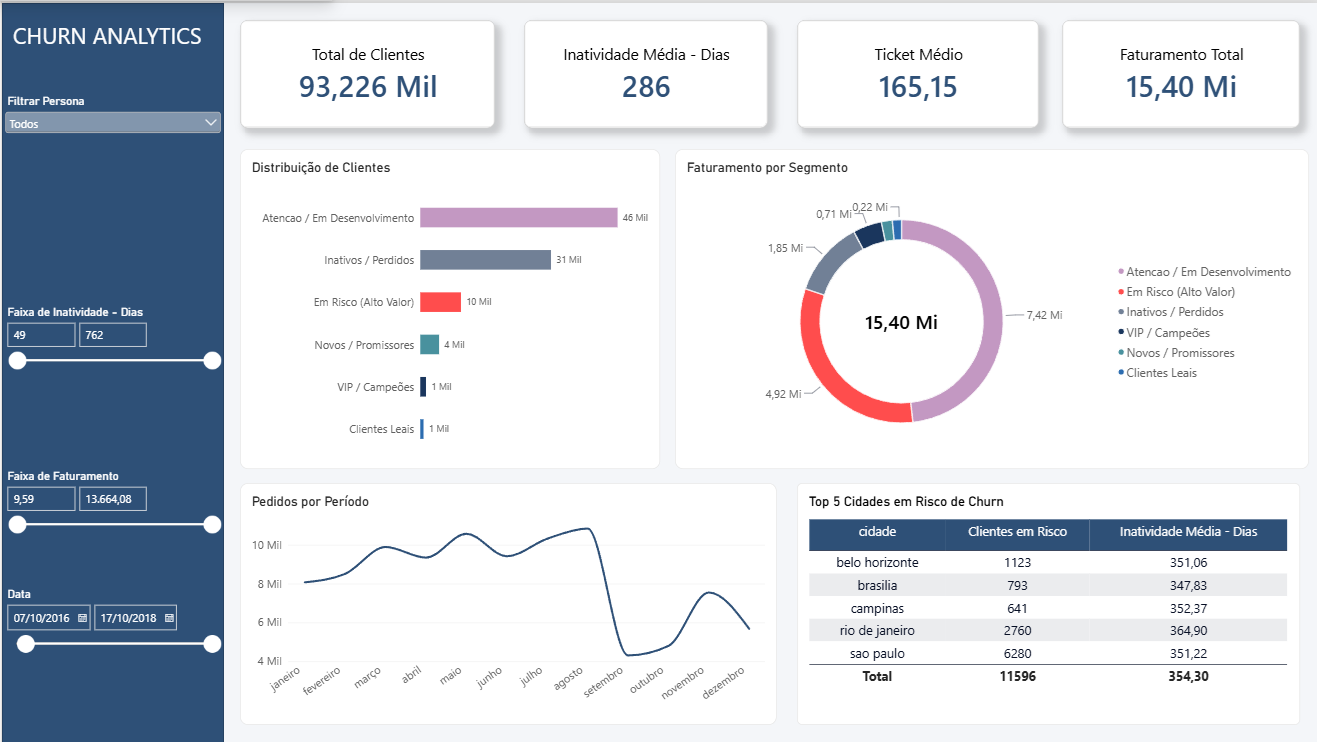

The dashboard page shown, as its layout file describes it:
{"tool":"powerbi","page":{"name":"Página 1","canvas":[1920,1080],"ordinal":0},"visuals":[{"type":"cardVisual","fields":{"Data":["Count(public vw_churn_rfm_clientes.cliente_unico_id)"]},"box":[347.2,24.8,372,157.6],"z":0},{"type":"cardVisual","fields":{"Data":["Sum(public vw_churn_rfm_clientes.monetario)"]},"box":[1546.5,24.8,347.2,157.6],"z":1000},{"type":"cardVisual","fields":{"Data":["Avg(public vw_churn_rfm_clientes.monetario)"]},"box":[1159.9,24.8,353.1,157.6],"z":2000},{"type":"cardVisual","fields":{"Data":["Avg(public vw_churn_rfm_clientes.recencia_dias)"]},"box":[761.6,24.8,356,157.6],"z":3000},{"type":"barChart","title":"Distribuição de Clientes","fields":{"Category":["public vw_churn_rfm_clientes.segmento_persona"],"Y":["CountNonNull(public vw_churn_rfm_clientes.cliente_unico_id)"]},"box":[347.2,213,612.8,466.9],"z":4000},{"type":"donutChart","title":"Faturamento por Segmento","fields":{"Category":["public vw_churn_rfm_clientes.segmento_persona"],"Y":["Sum(public vw_churn_rfm_clientes.monetario)"]},"box":[981.9,213,925,466.9],"z":5000},{"type":"shape","box":[0,0,323.9,1079.6],"z":6000},{"type":"slicer","fields":{"Values":["public vw_churn_rfm_clientes.segmento_persona"]},"box":[0,132.8,323.9,182.4],"z":7000},{"type":"slicer","fields":{"Values":["public vw_churn_rfm_clientes.recencia_dias"]},"box":[0,440.6,323.9,198.4],"z":8000},{"type":"slicer","fields":{"Values":["public vw_churn_rfm_clientes.monetario"]},"box":[0,679.9,323.9,172.2],"z":9000},{"type":"textbox","box":[16,24.8,291.8,78.8],"z":10000},{"type":"lineChart","title":"Pedidos por Período","fields":{"Category":["Calendario.Date.Variação.Hierarquia de datas.Ano","Calendario.Date.Variação.Hierarquia de datas.Trimestre","Calendario.Date.Variação.Hierarquia de datas.Mês","Calendario.Date.Variação.Hierarquia de datas.Dia"],"Y":["CountNonNull(public pedidos.pedido_id)"]},"box":[347.2,700.3,783.5,353.1],"z":11000},{"type":"slicer","fields":{"Values":["Calendario.Date"]},"box":[0,852,323.9,201.3],"z":12000},{"type":"tableEx","title":"Top 5 Cidades em Risco de Churn","fields":{"Values":["public clientes.cidade","public clientes.cliente_unico_id","Avg(public vw_churn_rfm_clientes.recencia_dias)"]},"box":[1159.9,700.3,733.9,353.1],"z":13000}]}

Visuals, with their boxes in screenshot pixels (x1, y1, x2, y2), scaled from the page's 1920x1080 canvas onto the 1317x742 screenshot:
cardVisual - Count(public vw_churn_rfm_clientes.cliente_unico_id): (x1=238, y1=17, x2=493, y2=125)
cardVisual - Sum(public vw_churn_rfm_clientes.monetario): (x1=1061, y1=17, x2=1299, y2=125)
cardVisual - Avg(public vw_churn_rfm_clientes.monetario): (x1=796, y1=17, x2=1038, y2=125)
cardVisual - Avg(public vw_churn_rfm_clientes.recencia_dias): (x1=522, y1=17, x2=767, y2=125)
"Distribuição de Clientes" barChart: (x1=238, y1=146, x2=658, y2=467)
"Faturamento por Segmento" donutChart: (x1=674, y1=146, x2=1308, y2=467)
shape: (x1=0, y1=0, x2=222, y2=741)
slicer - public vw_churn_rfm_clientes.segmento_persona: (x1=0, y1=91, x2=222, y2=217)
slicer - public vw_churn_rfm_clientes.recencia_dias: (x1=0, y1=303, x2=222, y2=439)
slicer - public vw_churn_rfm_clientes.monetario: (x1=0, y1=467, x2=222, y2=585)
textbox: (x1=11, y1=17, x2=211, y2=71)
"Pedidos por Período" lineChart: (x1=238, y1=481, x2=776, y2=724)
slicer - Calendario.Date: (x1=0, y1=585, x2=222, y2=724)
"Top 5 Cidades em Risco de Churn" tableEx: (x1=796, y1=481, x2=1299, y2=724)
